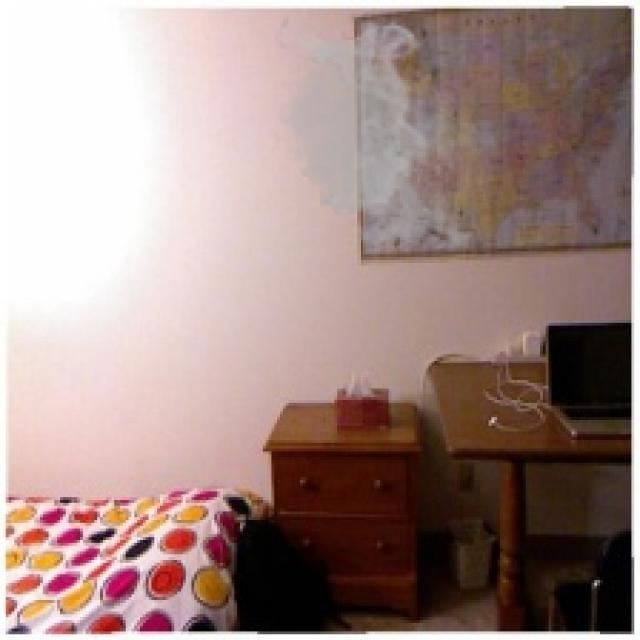smoke: (269, 17, 500, 260)
